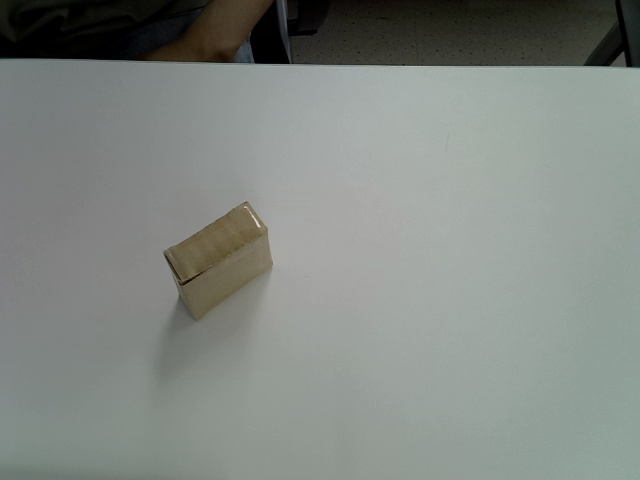normal: (164, 201, 274, 321)
